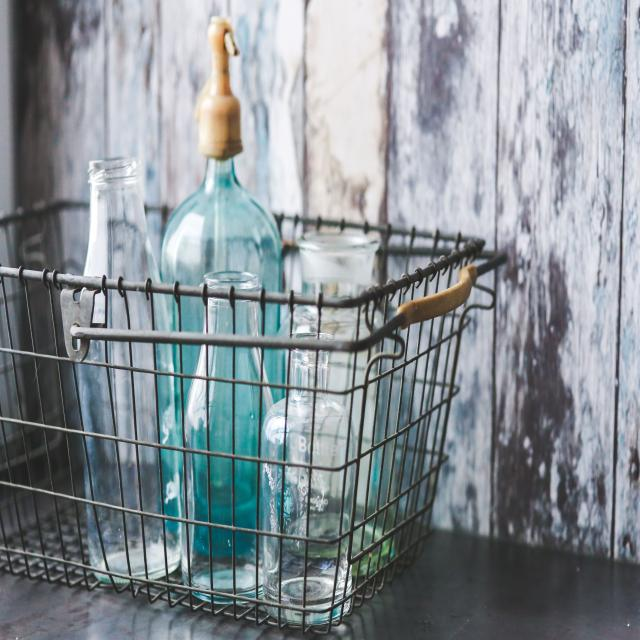Bottle: (161, 18, 280, 291), (260, 350, 356, 625), (78, 341, 181, 579), (182, 346, 272, 597), (328, 345, 403, 552)
